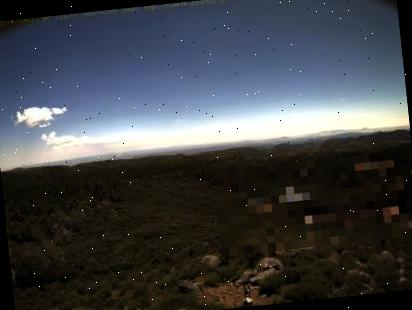smoke: (96, 137, 133, 162)
